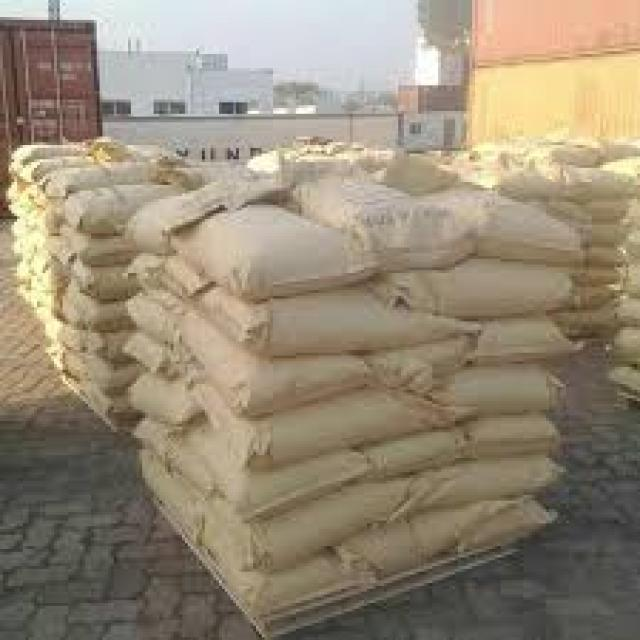cement_bag: (146, 450, 412, 576), (127, 177, 381, 294), (172, 313, 387, 422), (212, 281, 487, 361), (187, 427, 370, 522), (293, 169, 463, 249), (410, 448, 567, 517), (417, 264, 576, 320), (438, 360, 574, 423), (440, 186, 582, 246), (67, 176, 186, 238), (47, 157, 157, 196), (127, 371, 199, 429), (127, 284, 193, 340), (118, 332, 177, 378), (67, 259, 130, 302), (63, 287, 129, 328), (85, 356, 132, 394)
